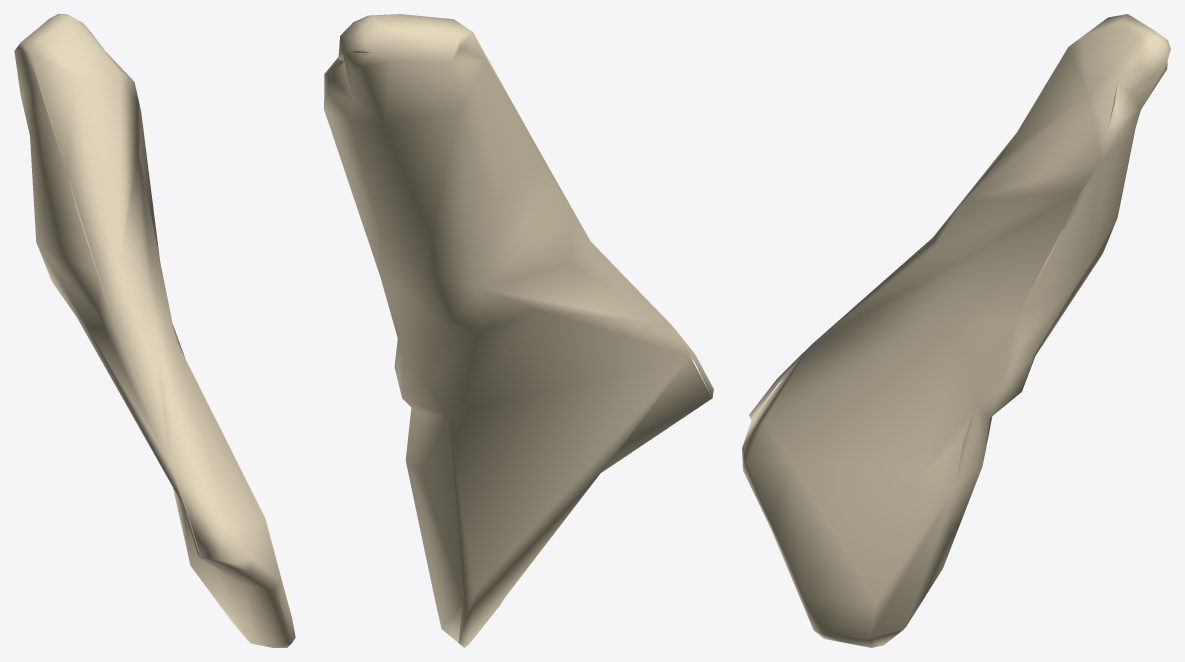
File: esqueleto-nasal-bone-l.glb
3 renders of one model, left to right at view 1: azimuth 30°, elevation 25°; view 2: azimuth 150°, elevation 25°; view 3: azimuth 270°, elevation 25°, orthographic. The views are drawn at different scales.
Parts seen in each view (by area): view 1: Nasal bone.l; view 2: Nasal bone.l; view 3: Nasal bone.l.
Boxes of the visible parts, x1,y1,x2,y2 form: Nasal bone.l: (14, 14, 295, 647); Nasal bone.l: (324, 14, 713, 647); Nasal bone.l: (742, 14, 1170, 647).
Size of the model in its own units: 0.00835 by 0.0314 by 0.0209.
